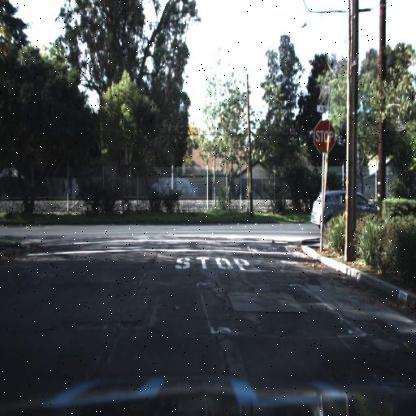car: (310, 189, 388, 236)
